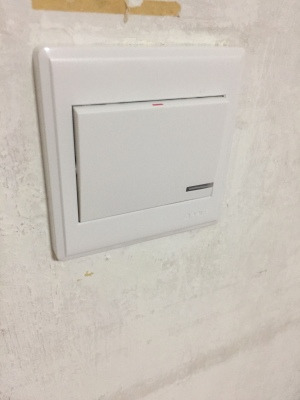switch: (64, 83, 227, 223)
